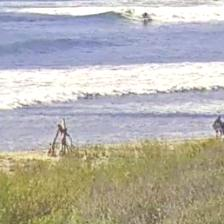surfer: (141, 10, 152, 20)
